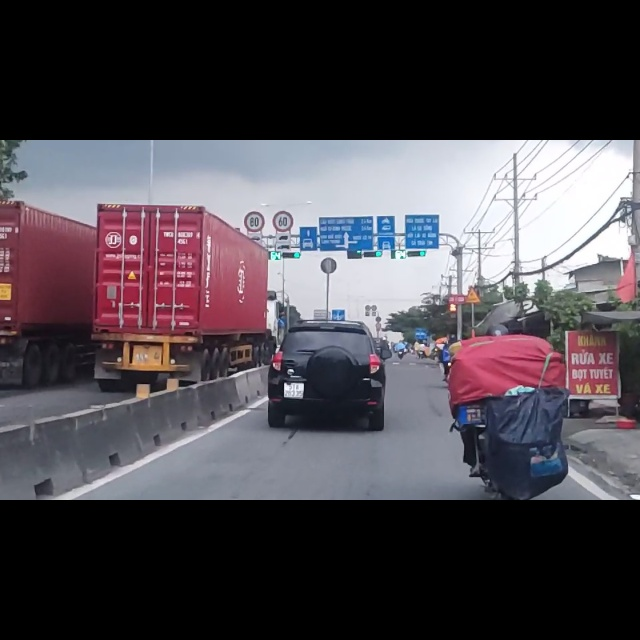bien_cam: (272, 124, 295, 166), (244, 126, 265, 165), (465, 260, 481, 290)
